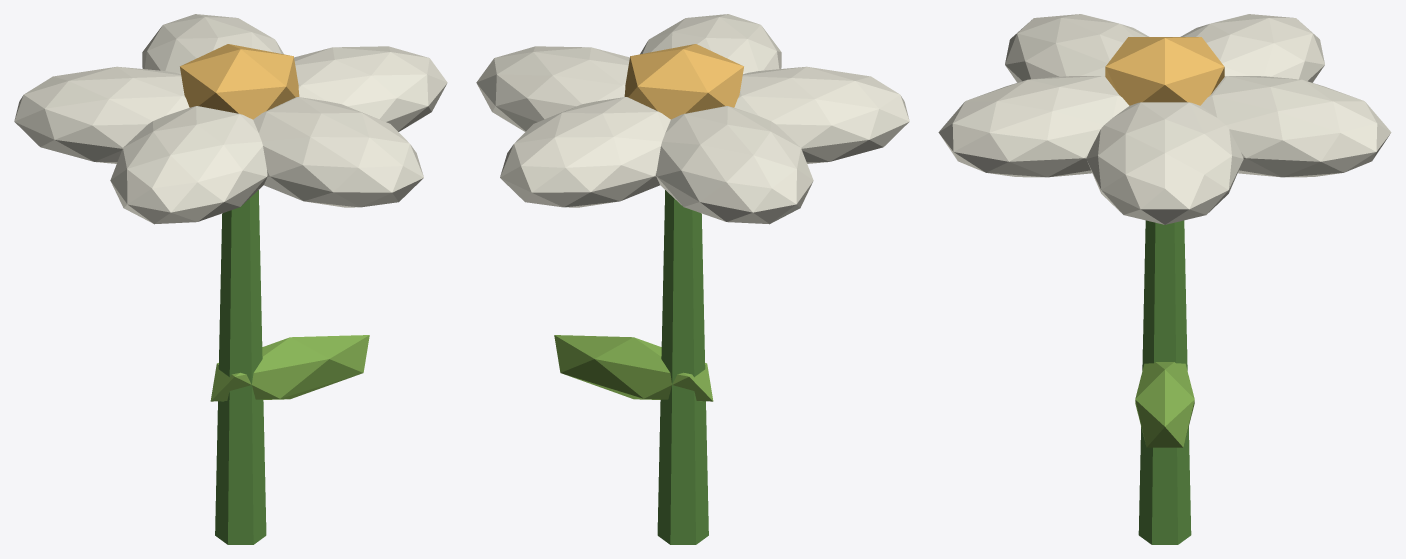
Rendered from flower_white_01.glb.
3 renders of one model, left to right at view 1: azimuth 30°, elevation 25°; view 2: azimuth 150°, elevation 25°; view 3: azimuth 270°, elevation 25°, orthographic. The views are drawn at different scales.
Parts seen in each view (by area): view 1: flower_white_01; view 2: flower_white_01; view 3: flower_white_01.
Boxes of the visible parts, left/top/right/bottom form: flower_white_01: left=14, top=14, right=447, bottom=544; flower_white_01: left=476, top=14, right=909, bottom=544; flower_white_01: left=938, top=14, right=1391, bottom=544.
Bounding box in the file's own units: 0.1476 × 0.188 × 0.1552.
